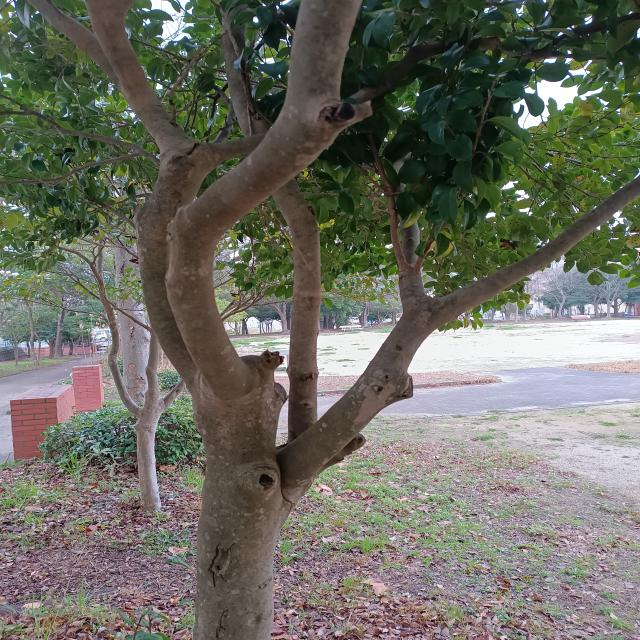Branch: (167, 0, 366, 470), (276, 296, 445, 500), (441, 175, 640, 323), (138, 141, 215, 406), (398, 216, 425, 310)
Twig: (84, 0, 194, 142), (27, 0, 120, 89), (367, 130, 408, 270), (414, 220, 445, 271)
